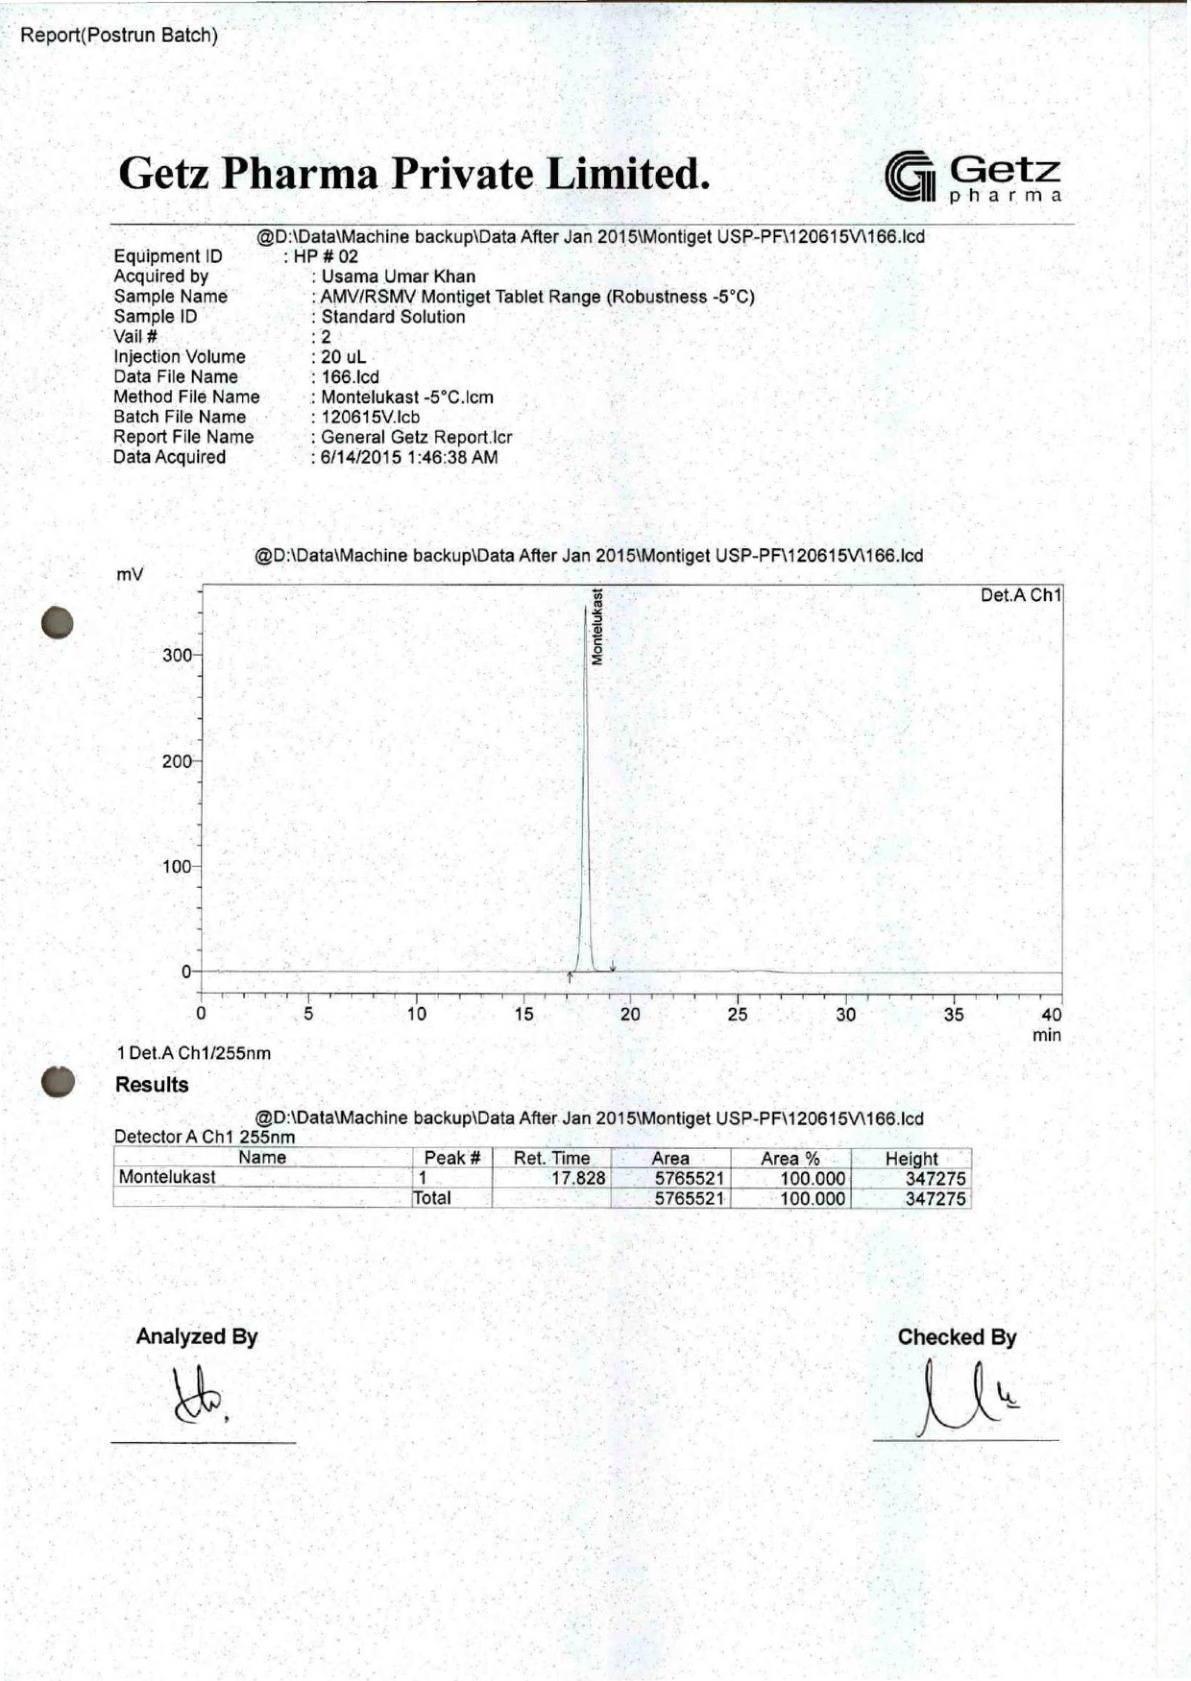full_lined: (111, 1143, 973, 1210)
nolines: (111, 248, 757, 469)
